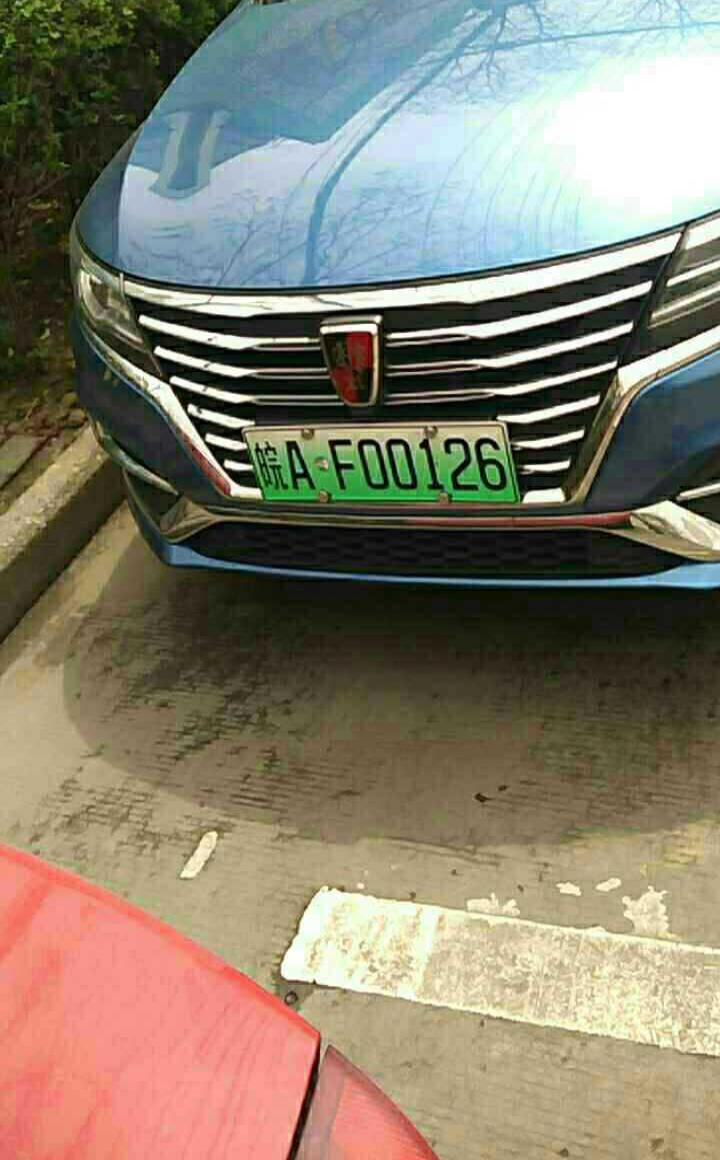car_id: (241, 421, 517, 503)
